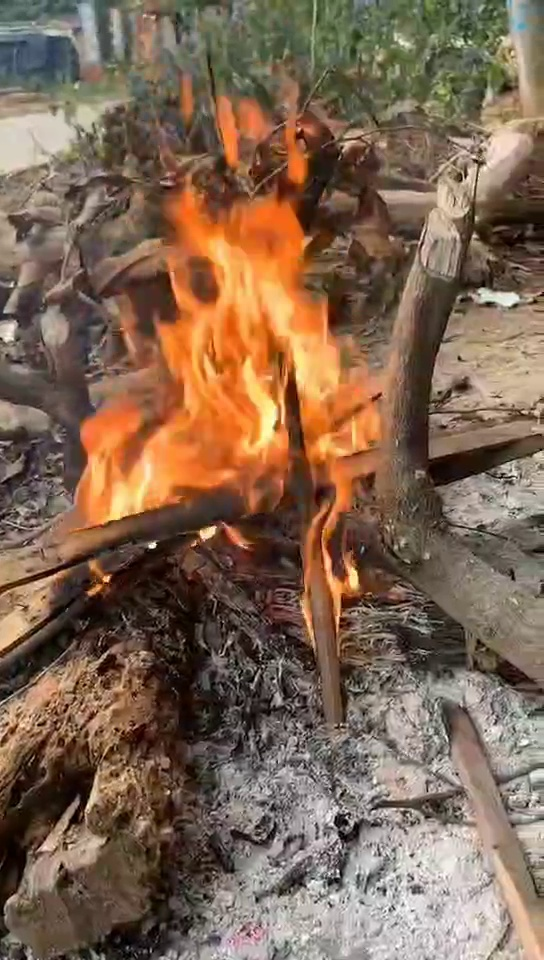fire: (109, 196, 368, 512)
